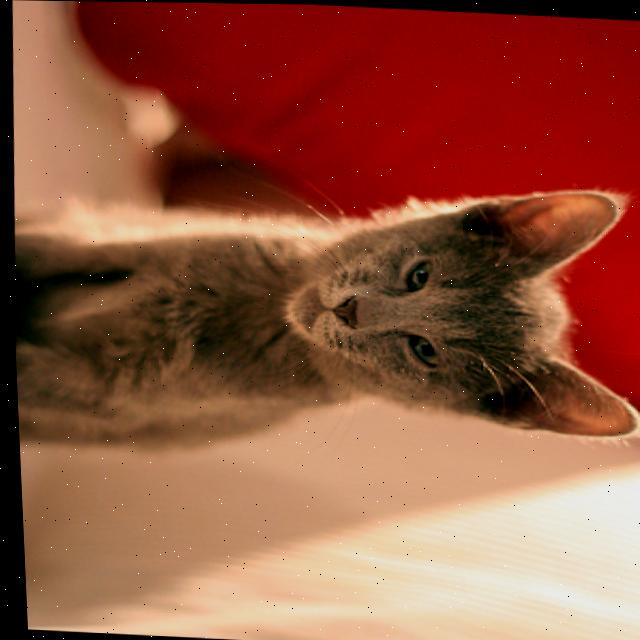Russian Blue: (6, 163, 640, 480)
